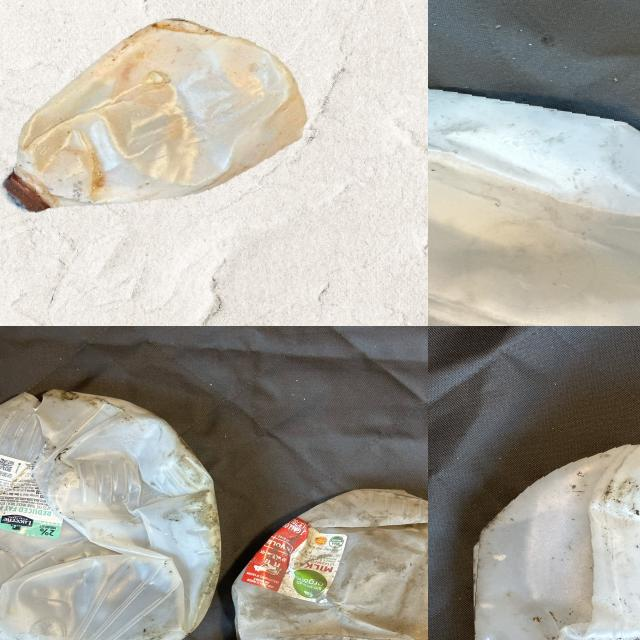milk-jug: (0, 12, 306, 239), (0, 392, 225, 640), (428, 84, 640, 326), (466, 434, 640, 640), (231, 483, 428, 640)
